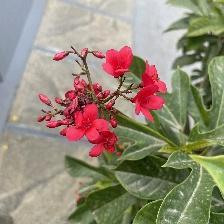jatropha: (68, 106, 110, 144), (103, 44, 134, 80)
